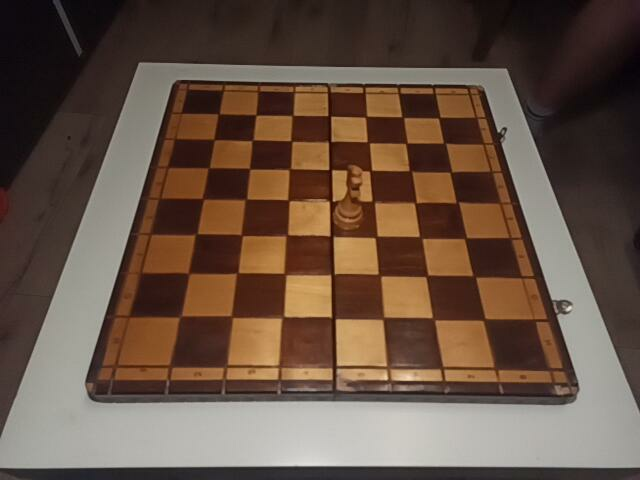W-Knight: (332, 165, 367, 231)
